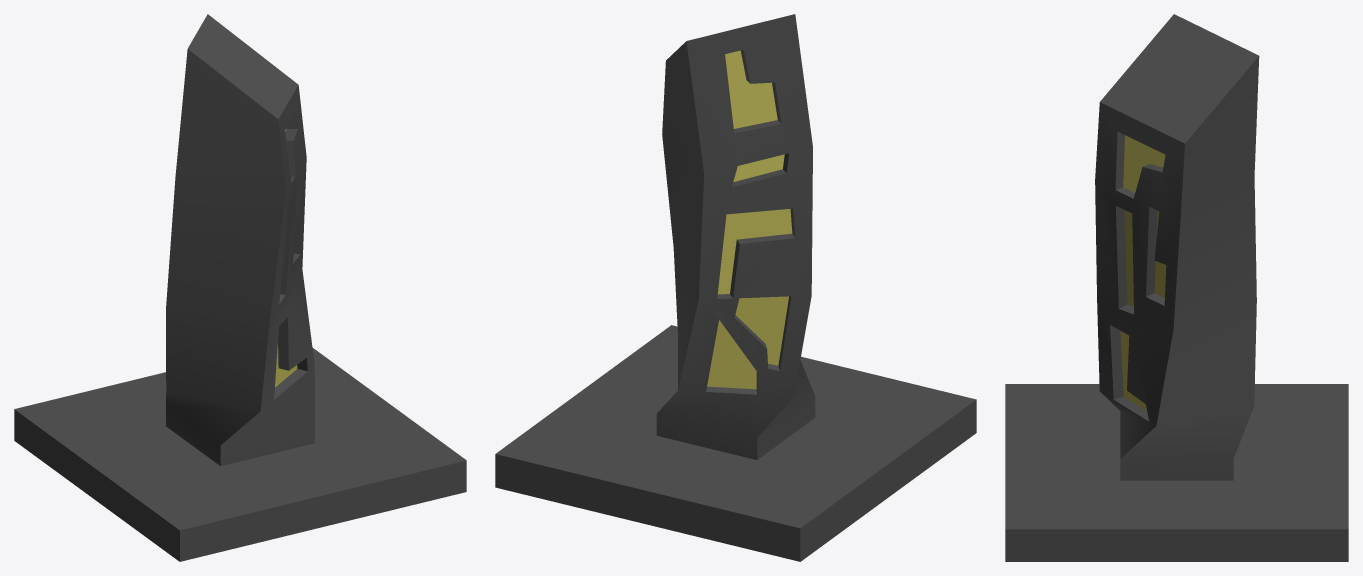
The model's file is remains01.fbx.
The picture shows the model from 3 angles, left to right: view 1: azimuth 30°, elevation 25°; view 2: azimuth 150°, elevation 25°; view 3: azimuth 270°, elevation 25°; orthographic projection. The views are drawn at different scales.
Parts seen in each view (by area): view 1: pCube2, pCube1; view 2: pCube2, pCube1; view 3: pCube2, pCube1.
Boxes of the visible parts, x1=… form: pCube2: x1=166, y1=14, x2=314, y2=466; pCube1: x1=14, y1=347, x2=466, y2=561; pCube2: x1=656, y1=14, x2=815, y2=459; pCube1: x1=495, y1=325, x2=976, y2=561; pCube2: x1=1095, y1=14, x2=1259, y2=480; pCube1: x1=1005, y1=384, x2=1348, y2=561.
Bounding box in the file's own units: 4.1 × 5.9 × 4.1.
